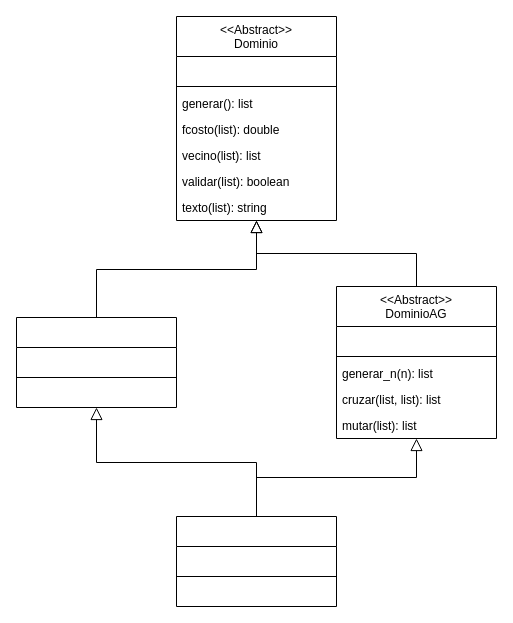
This 513x623 diagram has some shape labels left out. The shapes that lost their labels are listed below. From the top down, each one's box as (x1, y1, x2, y2) in pixels, then its label:
(16, 316, 176, 408): DominioTSP
(176, 516, 336, 606): DominioAGTSP
